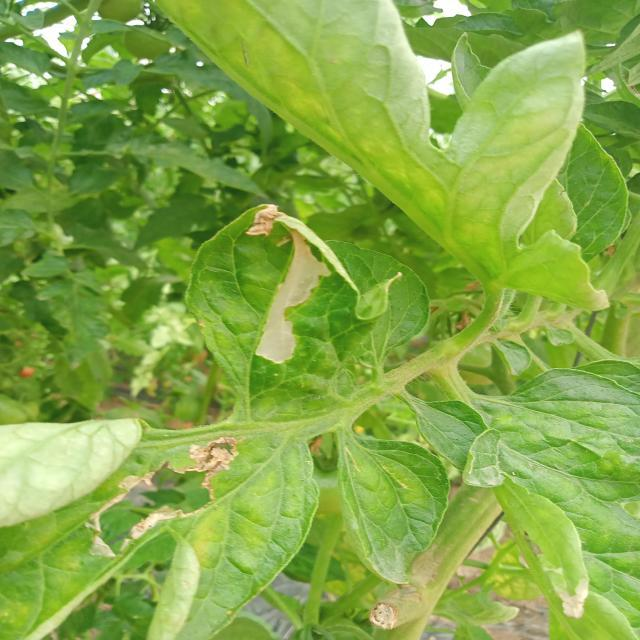Tuta absoluta: (254, 230, 339, 370)
